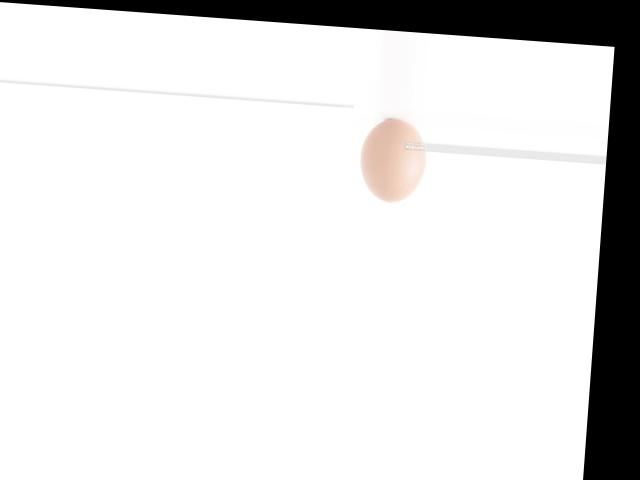egg: (358, 118, 429, 204)
